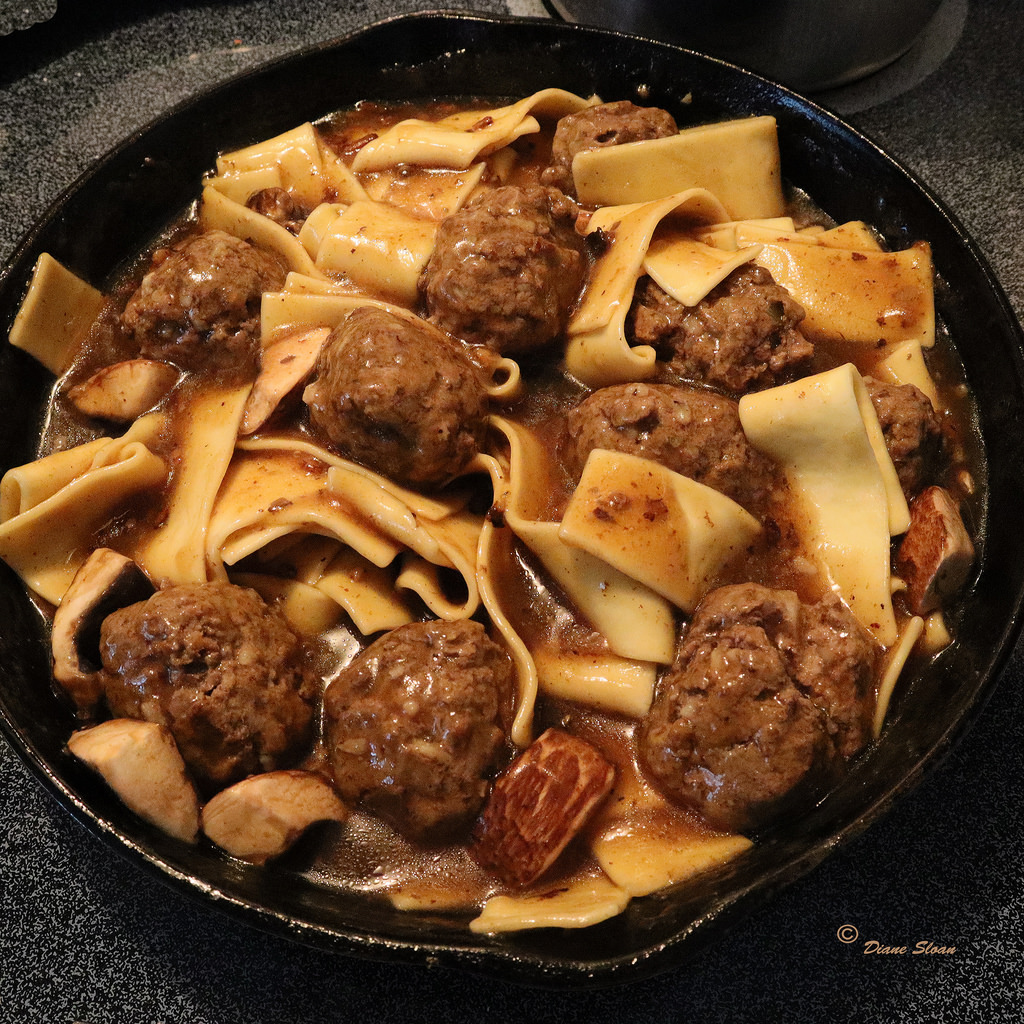plain spaghetti: (637, 574, 881, 837), (301, 306, 526, 501), (334, 618, 526, 843), (95, 587, 329, 770), (414, 174, 599, 365), (631, 248, 828, 407), (557, 379, 776, 506), (109, 229, 298, 376)
